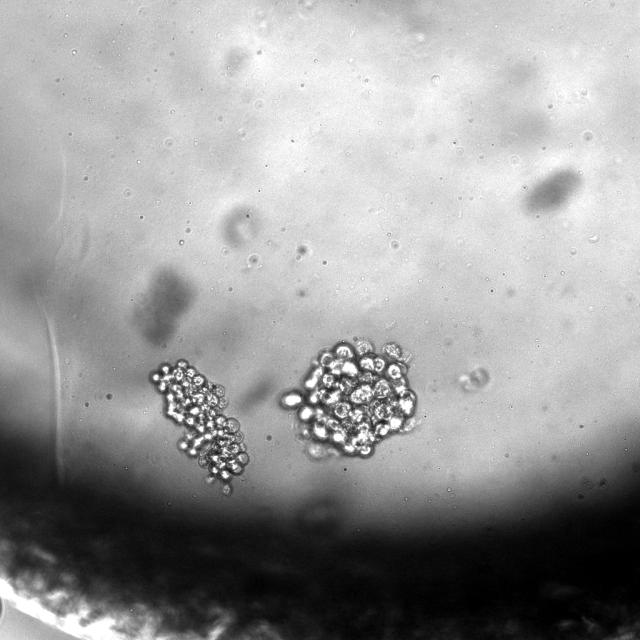organoid: (280, 338, 417, 459), (148, 358, 250, 497)
